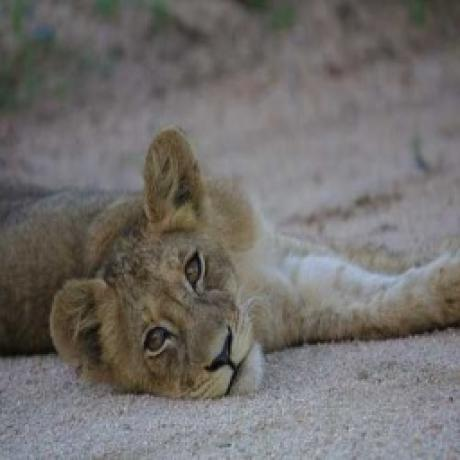Lion: (0, 125, 460, 401)
